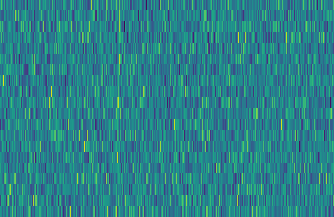signal: (111, 0, 123, 217)
